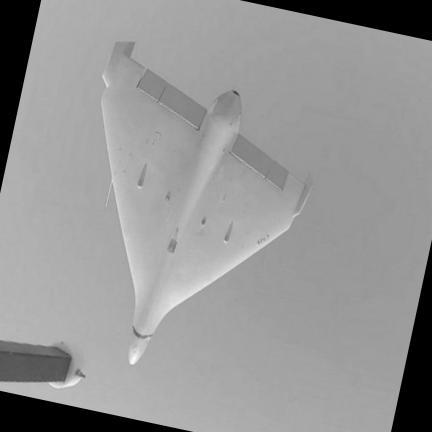Shahed: (101, 42, 313, 364)
